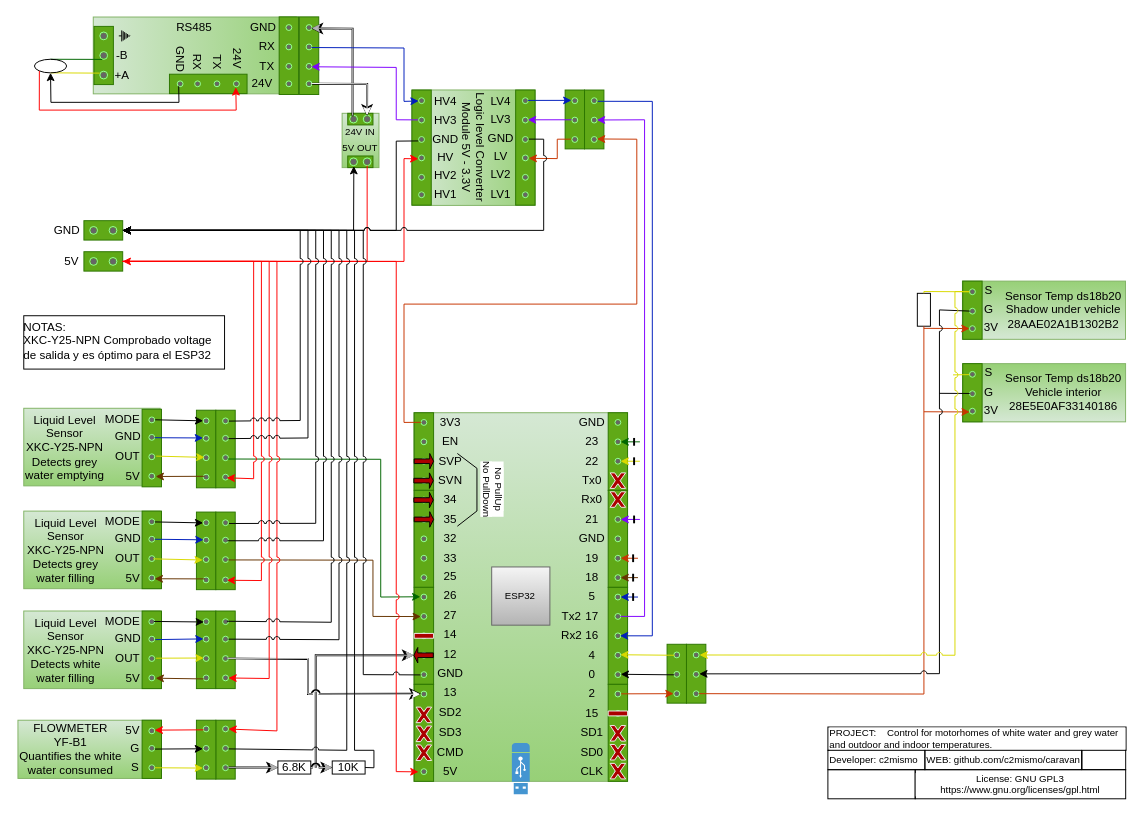
Some shapes in this 1143 by 817 pixel diagram are drawn without their labels. The shapes that lost their labels are listed below. From the top down, each one's box as (x1, y1, x2, y2) in pixels, then its label:
(33, 58, 67, 73): RJ45
(916, 292, 930, 326): 4.7K
(1081, 749, 1126, 770): Page 1/1
(827, 769, 915, 799): Date: 10-03-2023 Place: Málaga
